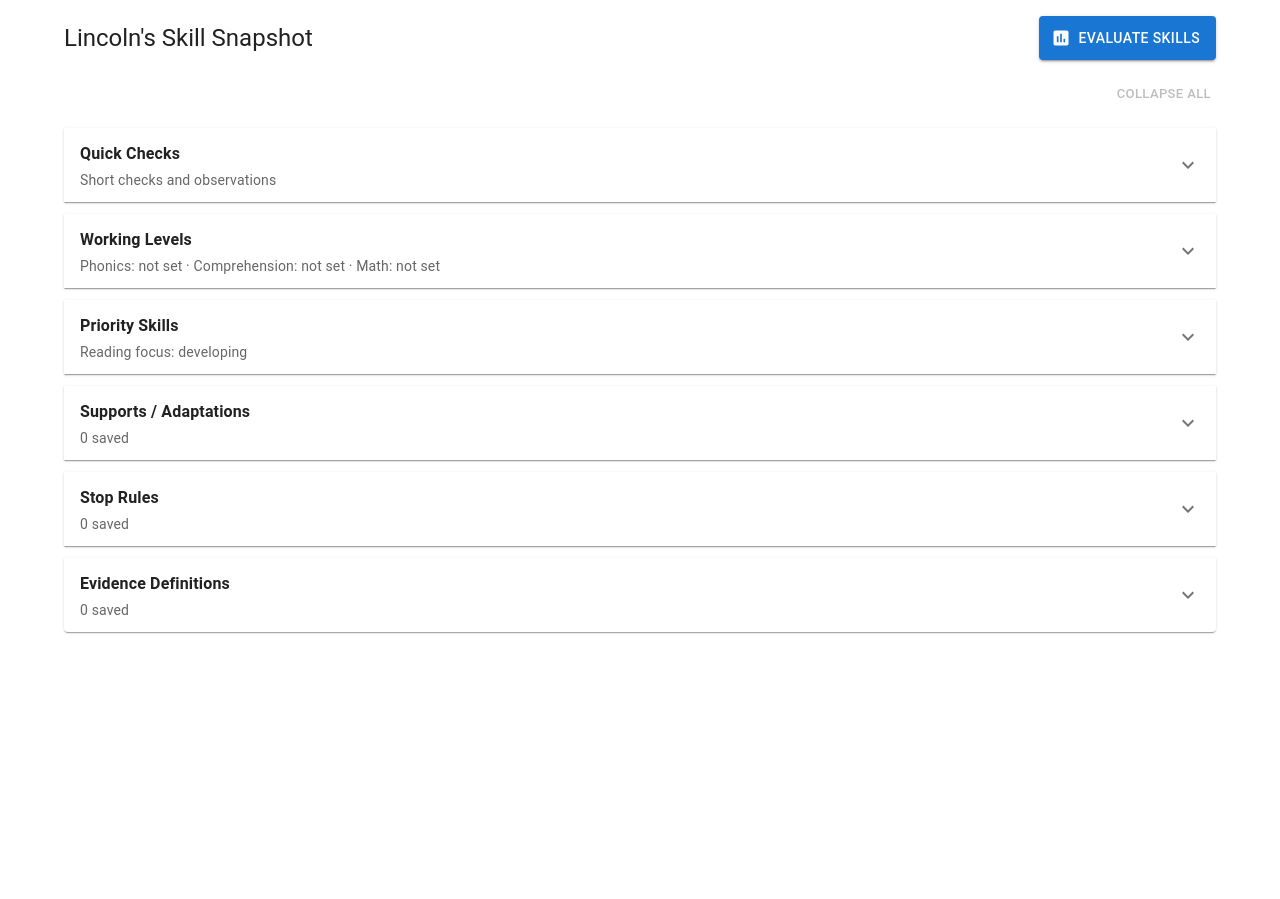
Test case: Skill Snapshot — the level control says what it reaches (UX-393) › renders the observation note under the level dropdown
Click the button "Priority Skills Reading focus: developing" at x=129, y=326, box [64,300,1216,374]
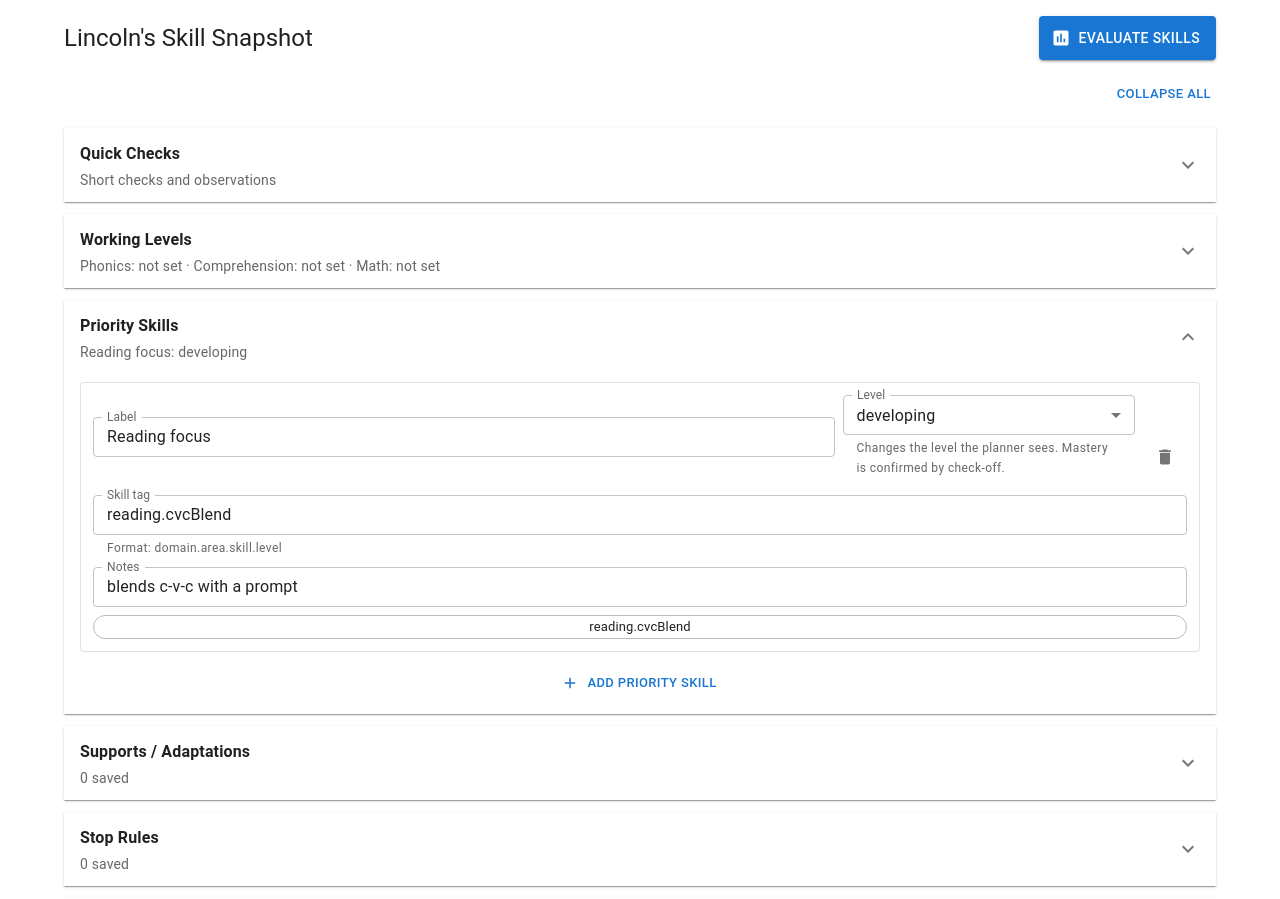
Expected: the text "Changes the level the planner sees. Mastery is confirmed by check-off." is shown, [856,439,1121,479]
